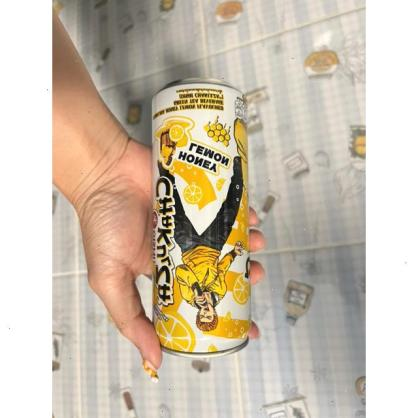can: (150, 81, 250, 359)
